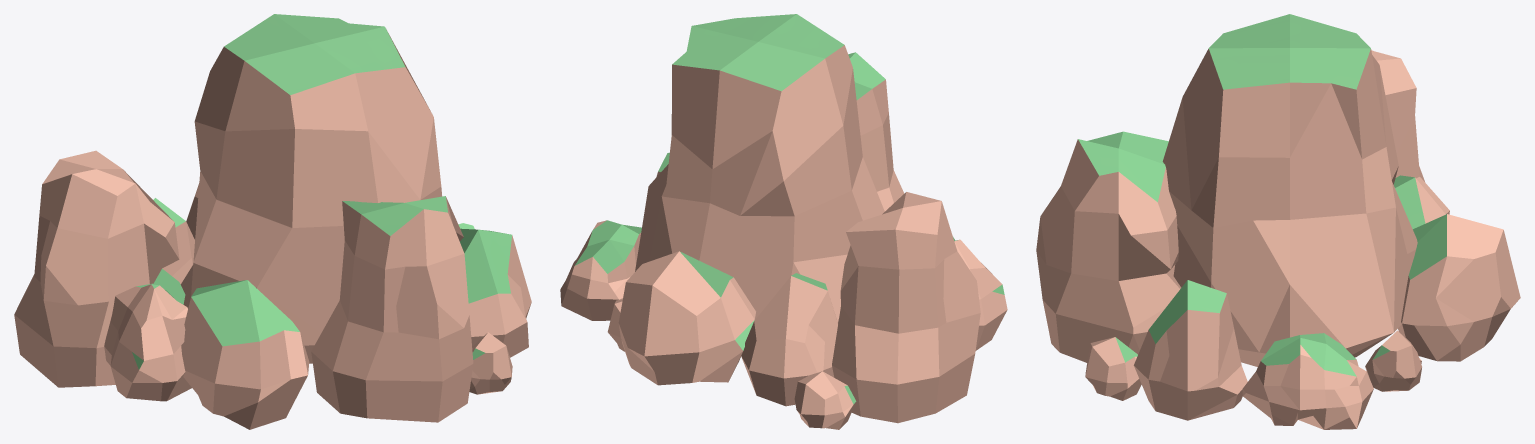
The model's file is Plateforme.fbx.
3 views of the same model, side by side, from view 1: azimuth 30°, elevation 25°; view 2: azimuth 150°, elevation 25°; view 3: azimuth 270°, elevation 25° (orthographic). The views are drawn at different scales.
Parts seen in each view (by area): view 1: Plateforme; view 2: Plateforme; view 3: Plateforme.
Boxes of the visible parts, x1,y1,x2,y2 form: Plateforme: [14, 14, 531, 429]; Plateforme: [560, 14, 1007, 429]; Plateforme: [1036, 14, 1520, 429].
Bounding box in the file's own units: 10.57 × 7.02 × 10.19.
